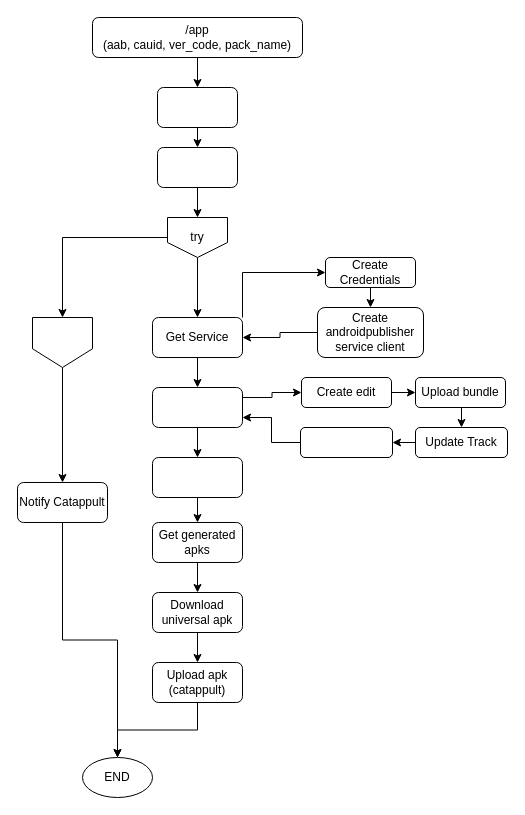
This 525x815 diagram has some shape labels left out. The shapes that lost their labels are listed below. From the top down, each one's centre as x and y in pixels, then its label:
At point 197,107: "Save aab in tmp".
At point 197,167: "Sign App".
At point 62,342: "except HttpError".
At point 197,407: "Upload app (gp)".
At point 346,442: "Commit edit".
At point 197,477: "Delete aab in tmp".
